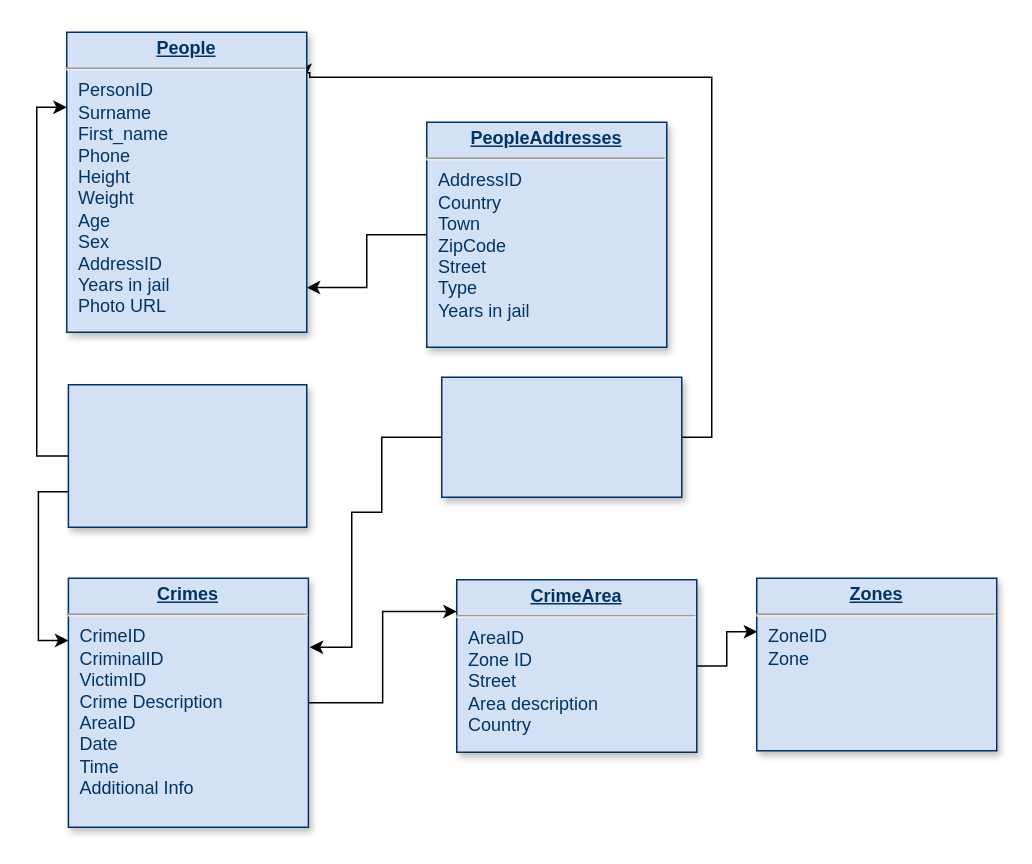
This 1032x864 diagram has some shape labels left out. The centre of each missing label's shape, as x and y in pixels:
"Criminals CriminallD CrimeID" goes at [188,457].
"Victims VictimID CrimeID" goes at [562,439].
